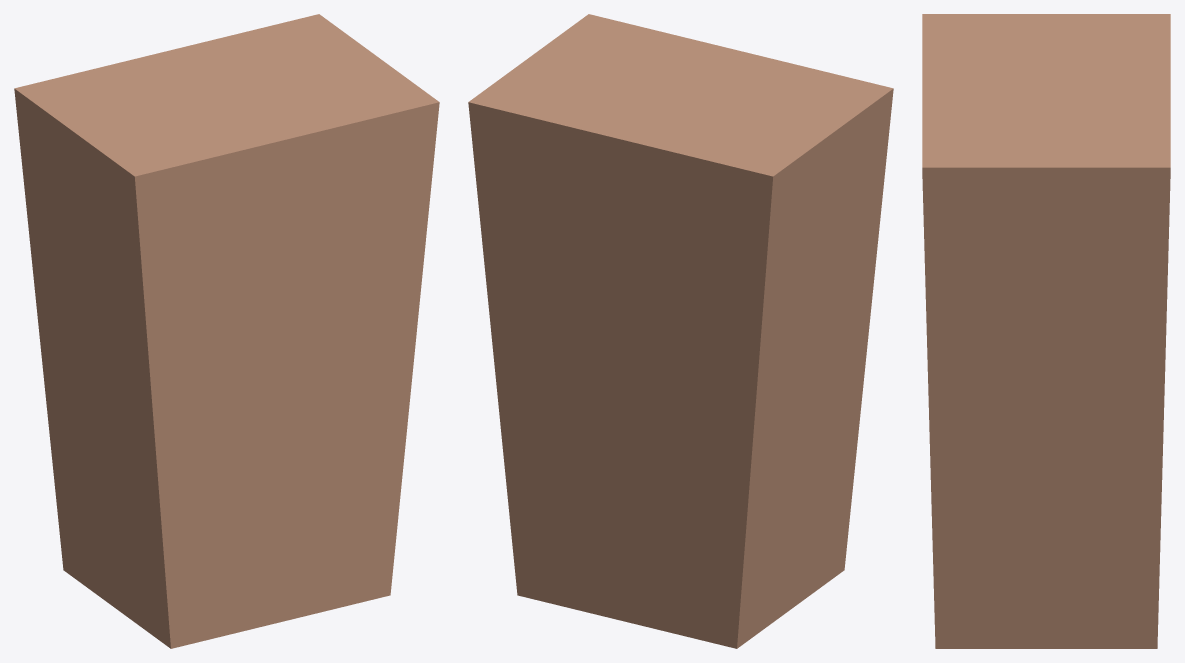
Rendered from wk_buck_heavy_hand_v01.glb.
The picture shows the model from 3 angles, left to right: view 1: azimuth 30°, elevation 25°; view 2: azimuth 150°, elevation 25°; view 3: azimuth 270°, elevation 25°; orthographic projection. The views are drawn at different scales.
Visible parts, largest first — view 1: GEO_Hand.002; view 2: GEO_Hand.002; view 3: GEO_Hand.002.
Boxes of the visible parts, x1,y1,x2,y2 form: GEO_Hand.002: [14, 14, 439, 648]; GEO_Hand.002: [468, 14, 893, 648]; GEO_Hand.002: [922, 14, 1170, 648].
Size of the model in its own units: 0.108 by 0.165 by 0.0739.
